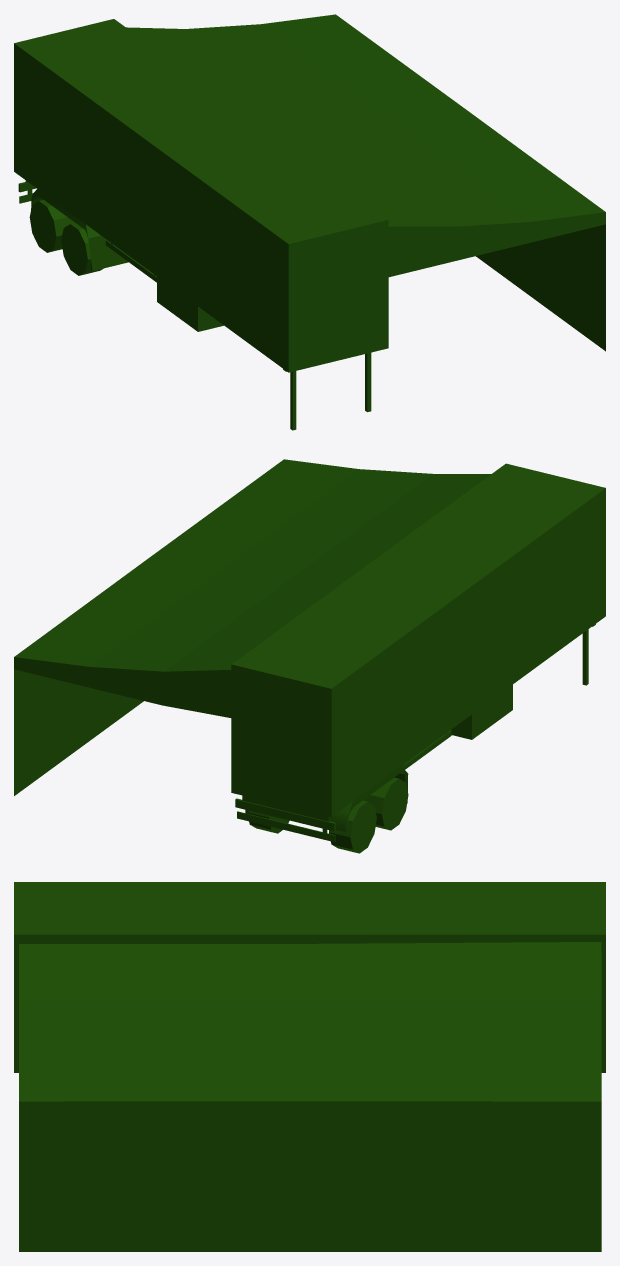
The model's file is Tents01B.fbx.
The picture shows the model from 3 angles, top to bottom: view 1: azimuth 30°, elevation 25°; view 2: azimuth 150°, elevation 25°; view 3: azimuth 270°, elevation 25°; orthographic projection. The views are drawn at different scales.
Visible parts, largest first — view 1: Tents01B; view 2: Tents01B; view 3: Tents01B.
Boxes of the visible parts, box(x1,y1,x2,y2) form: Tents01B: box(14, 14, 605, 430); Tents01B: box(14, 459, 605, 853); Tents01B: box(14, 882, 605, 1251).
Bounding box in the file's own units: 2.94 × 1.7 × 4.36.
